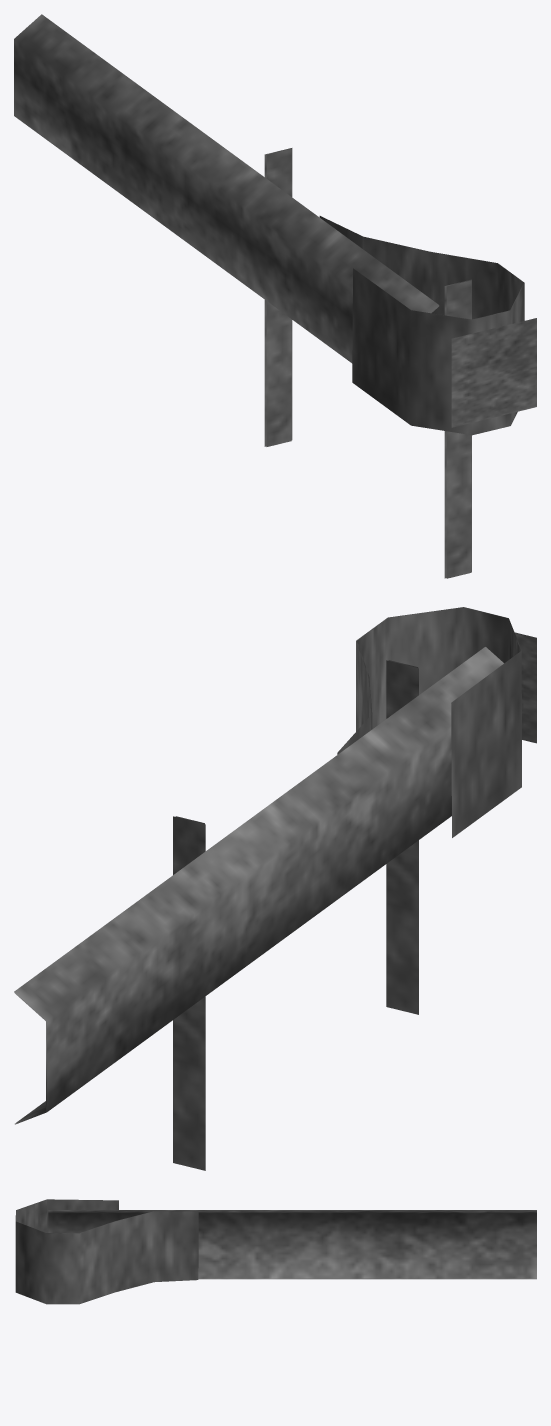
File: swb-end-1_lod.fbx
3 views of the same model, one above another, from view 1: azimuth 30°, elevation 25°; view 2: azimuth 150°, elevation 25°; view 3: azimuth 270°, elevation 25° (orthographic). The views are drawn at different scales.
Parts seen in each view (by area): view 1: swb-end-1-lod; view 2: swb-end-1-lod; view 3: swb-end-1-lod.
Boxes of the visible parts, box(x1,y1,x2,y2) form: swb-end-1-lod: box(14, 14, 536, 578); swb-end-1-lod: box(14, 607, 536, 1170); swb-end-1-lod: box(15, 1199, 536, 1304).
Size of the model in its own units: 32.91 by 83.94 by 214.
